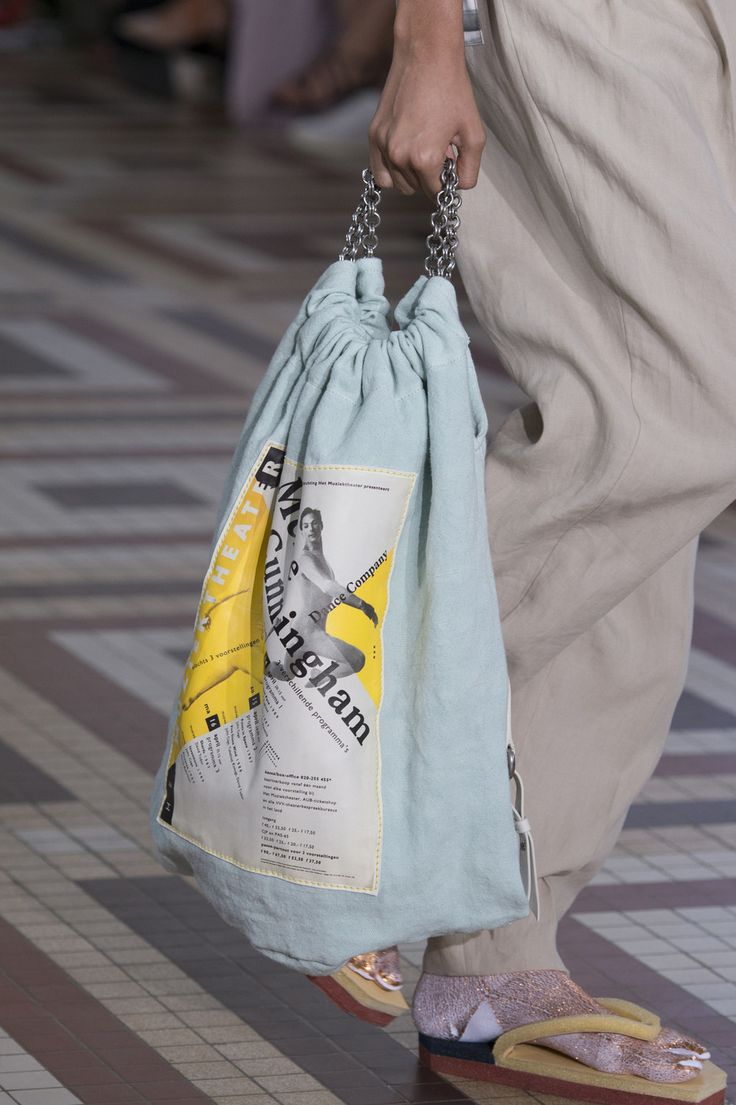nylon: (152, 3, 736, 975)
